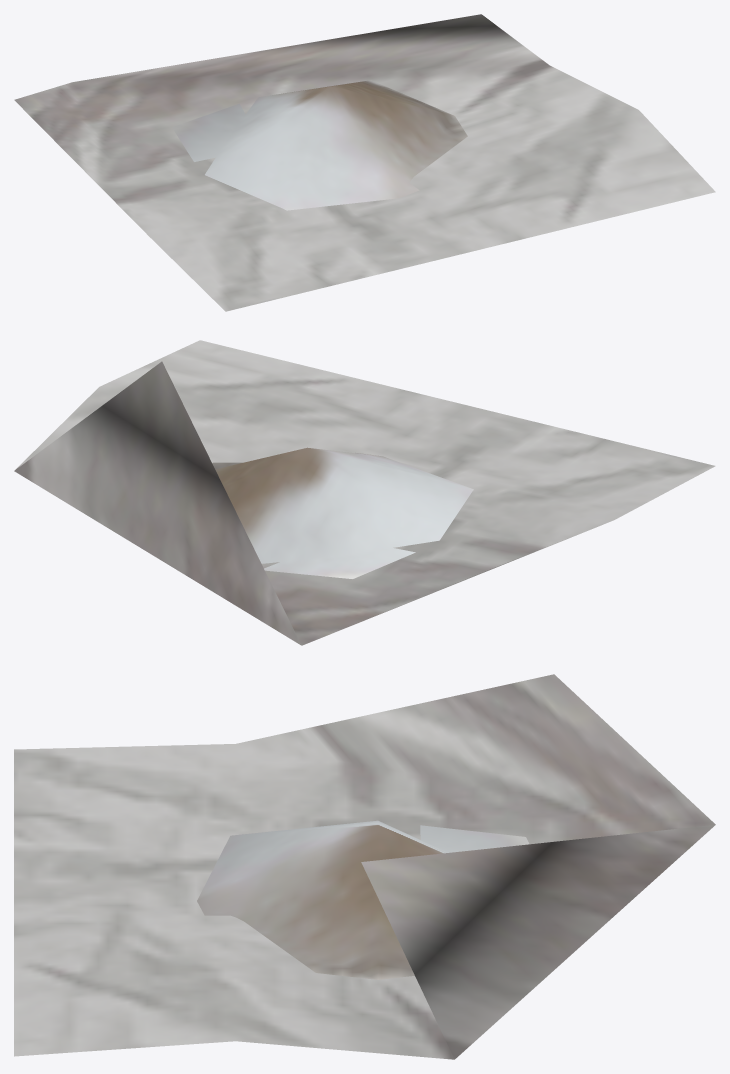
File: ShenMiRenJia_01_dupin_01.FBX
3 renders of one model, top to bottom at view 1: azimuth 30°, elevation 25°; view 2: azimuth 150°, elevation 25°; view 3: azimuth 270°, elevation 25°, orthographic. The views are drawn at different scales.
Parts seen in each view (by area): view 1: ShenMiRenJia_01_dupin_01; view 2: ShenMiRenJia_01_dupin_01; view 3: ShenMiRenJia_01_dupin_01.
Part boxes in pixels (x1,y1,x2,y2): ShenMiRenJia_01_dupin_01: (14,14,715,311); ShenMiRenJia_01_dupin_01: (14,340,715,645); ShenMiRenJia_01_dupin_01: (14,674,715,1059).
Bounding box in the file's own units: 135 × 26.79 × 128.
